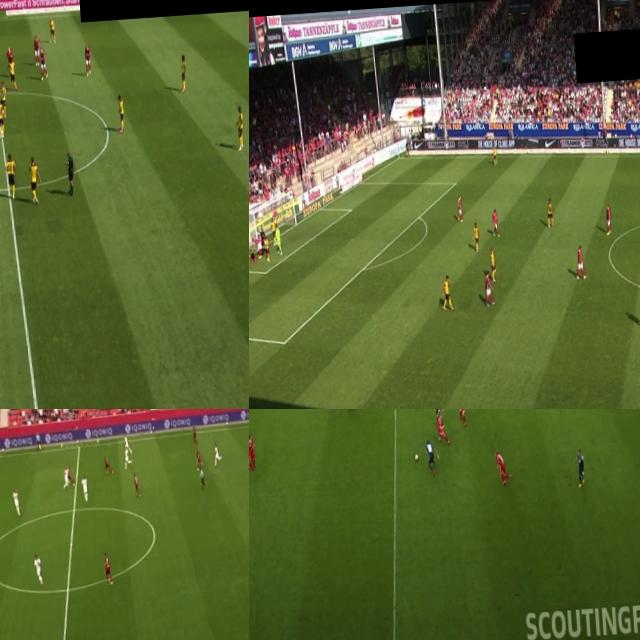ball: (412, 450, 421, 464), (0, 127, 3, 135)
player: (2, 154, 18, 202), (493, 446, 512, 486), (26, 153, 40, 200), (114, 88, 128, 132), (440, 272, 454, 310), (178, 45, 188, 95), (574, 241, 586, 282), (81, 37, 92, 79), (482, 268, 494, 306), (32, 550, 44, 586), (435, 414, 449, 444), (3, 40, 14, 78), (236, 104, 244, 154), (38, 44, 48, 84), (252, 232, 265, 262), (576, 446, 586, 485), (604, 200, 614, 236), (102, 552, 112, 587), (32, 29, 41, 67), (489, 246, 498, 284), (490, 204, 500, 238), (48, 13, 58, 45), (8, 57, 18, 89), (0, 77, 8, 117), (454, 195, 464, 227), (249, 433, 257, 472), (274, 224, 284, 253), (212, 440, 222, 466), (472, 220, 480, 252), (80, 474, 89, 502), (12, 491, 22, 516), (132, 472, 142, 496), (262, 235, 270, 264), (64, 465, 74, 488), (0, 96, 6, 134), (546, 197, 554, 225), (102, 454, 112, 475), (270, 216, 278, 242), (431, 409, 443, 425), (195, 448, 203, 470), (63, 466, 70, 487), (125, 432, 132, 453), (123, 446, 130, 467), (458, 409, 468, 423), (192, 426, 198, 448), (492, 147, 498, 163), (250, 246, 256, 262)
